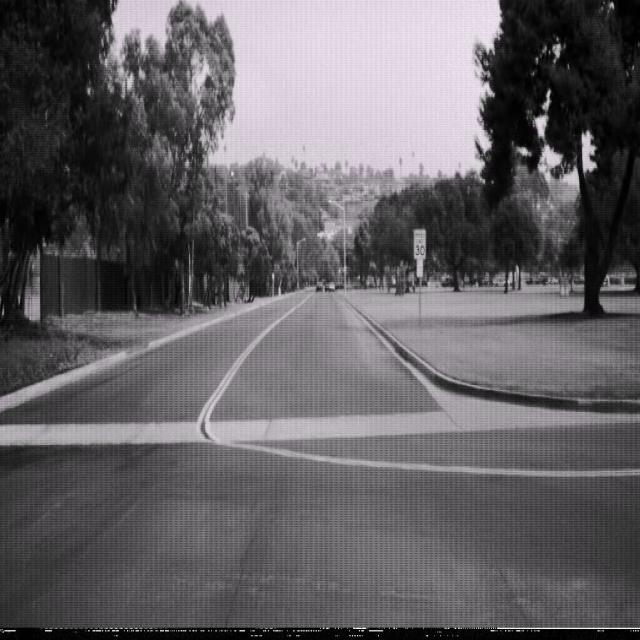speedLimit30: (412, 227, 427, 260)
